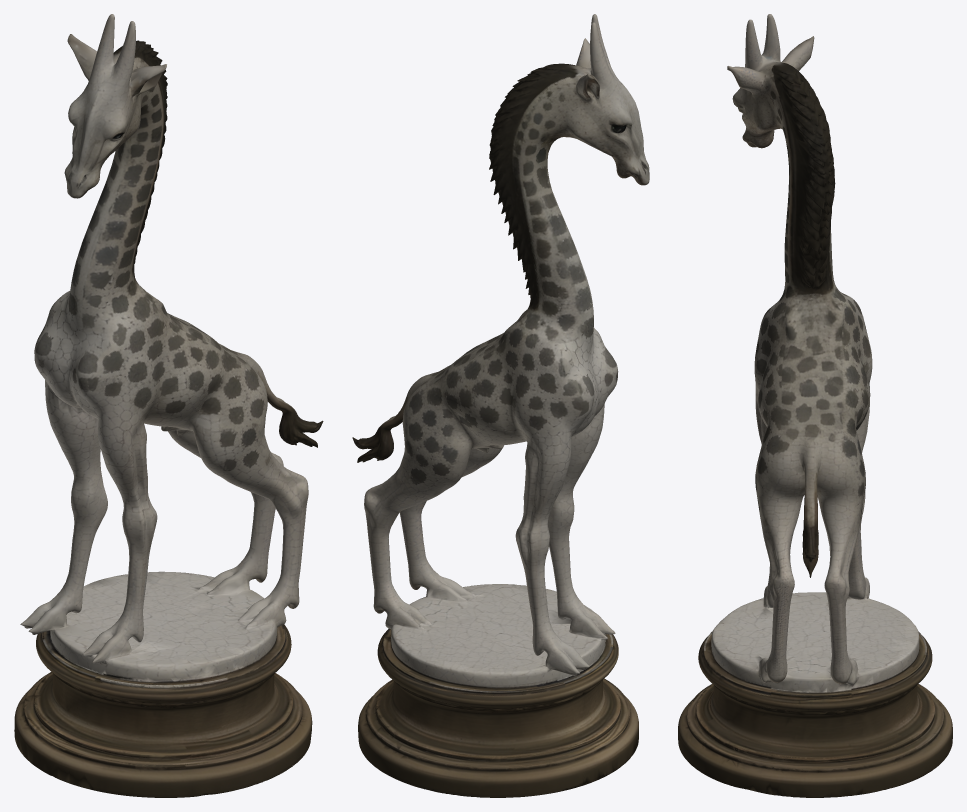
3 renders of one model, left to right at view 1: azimuth 30°, elevation 25°; view 2: azimuth 150°, elevation 25°; view 3: azimuth 270°, elevation 25°, orthographic. The views are drawn at different scales.
Parts seen in each view (by area): view 1: node_0; view 2: node_0; view 3: node_0.
Part boxes in pixels (x1,y1,x2,y2): node_0: [14, 14, 323, 797]; node_0: [352, 14, 649, 797]; node_0: [678, 14, 952, 797].
Bounding box in the file's own units: 0.4424 × 1.12 × 0.4028.
Materials: 1 (1 with a texture image).
